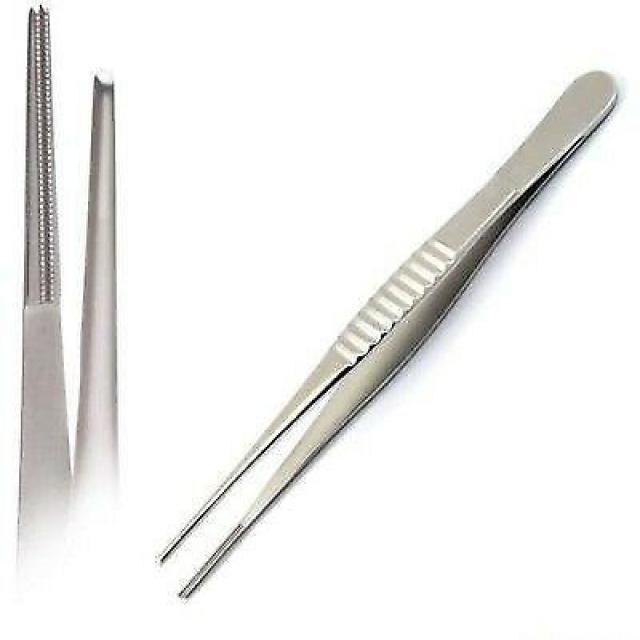Forceps: (150, 66, 622, 602), (16, 5, 125, 528)
